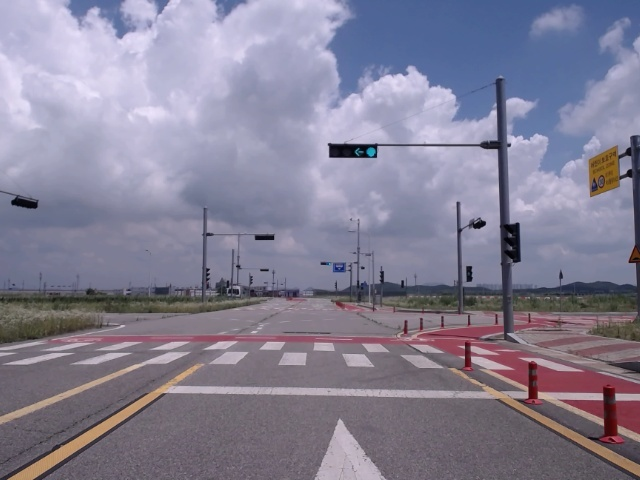all_green_4: (332, 143, 379, 157)
